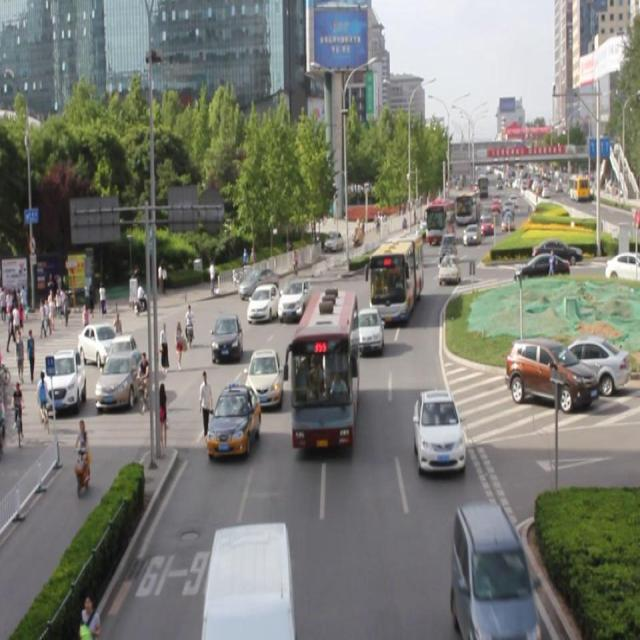car: (450, 499, 532, 640), (412, 386, 464, 472), (207, 382, 261, 455), (245, 346, 282, 405), (278, 274, 313, 318), (322, 304, 357, 348), (211, 314, 242, 362), (245, 281, 278, 319), (354, 306, 382, 348), (437, 250, 458, 282)
truck: (202, 521, 292, 640)
van: (289, 288, 358, 452), (369, 233, 422, 320)
